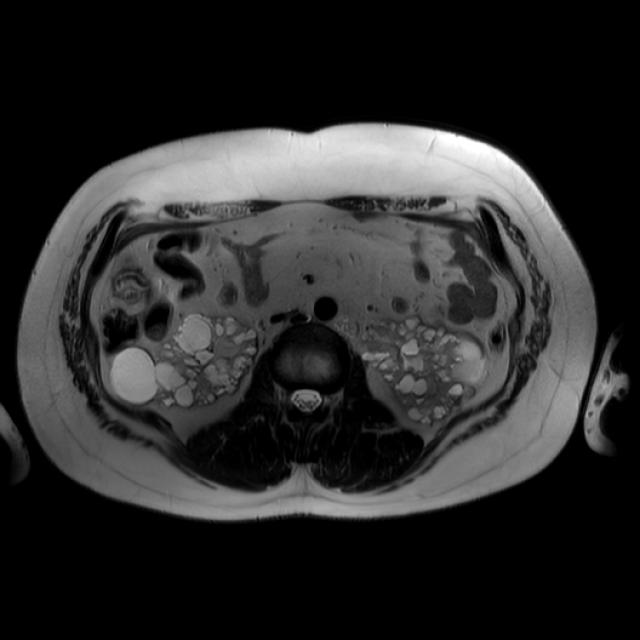sag: (112, 311, 258, 407)
sol: (365, 316, 485, 425)
